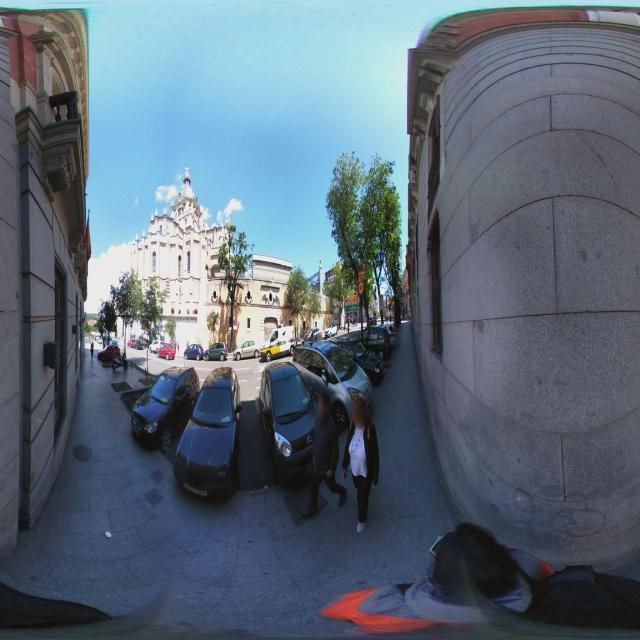forb_stopping: (234, 319, 237, 325)
